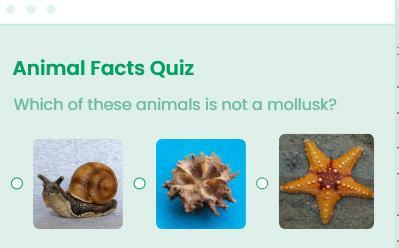radio: (10, 176, 27, 192), (134, 176, 148, 192), (256, 177, 270, 191)
